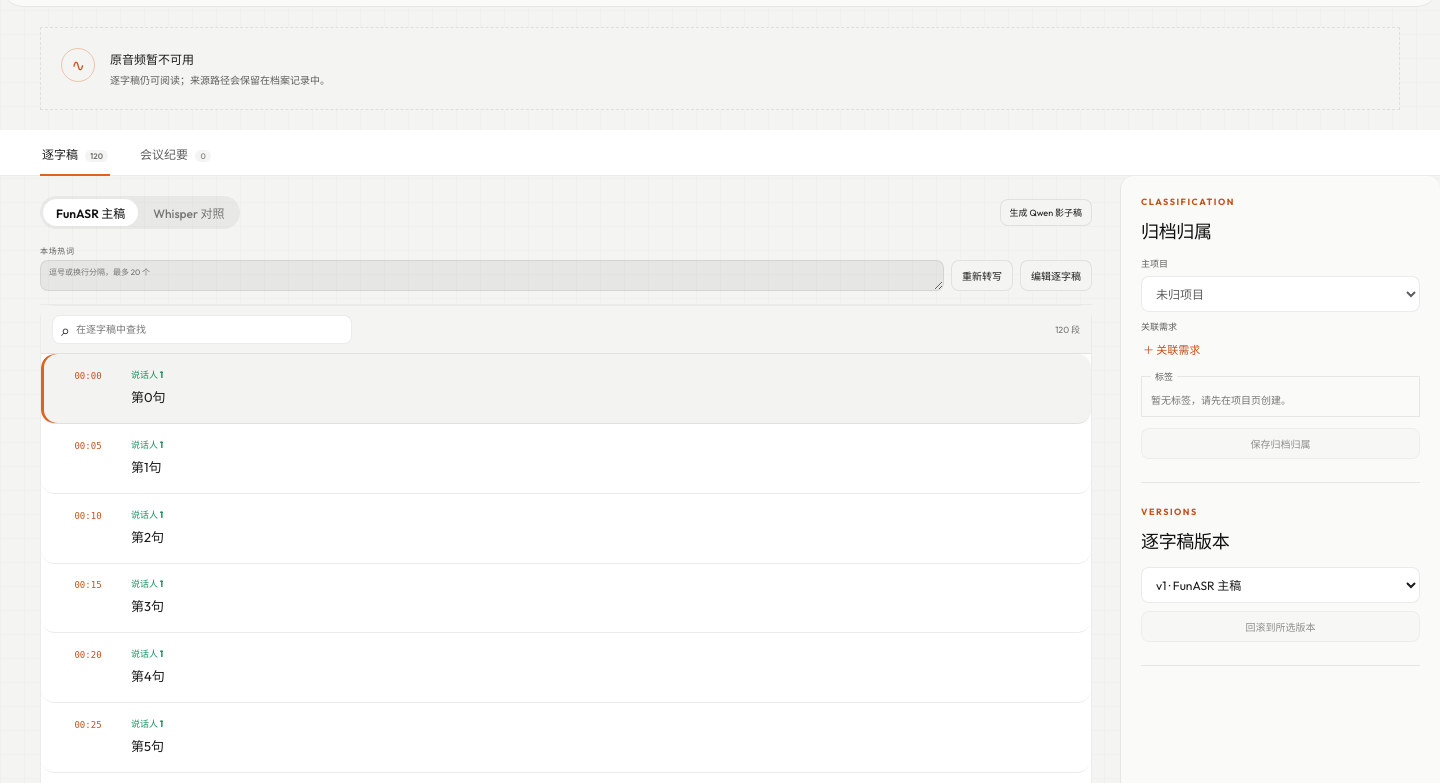
Test: MeetingDetailPage 逐字稿编辑的脏判断 › 改了就是改过：保存草稿可点，外层收到有未保存的修改
(page scrolled)
Click the button "编辑逐字稿".
click(1056, 276)  # box [1020,260,1092,291]
(page scrolled)
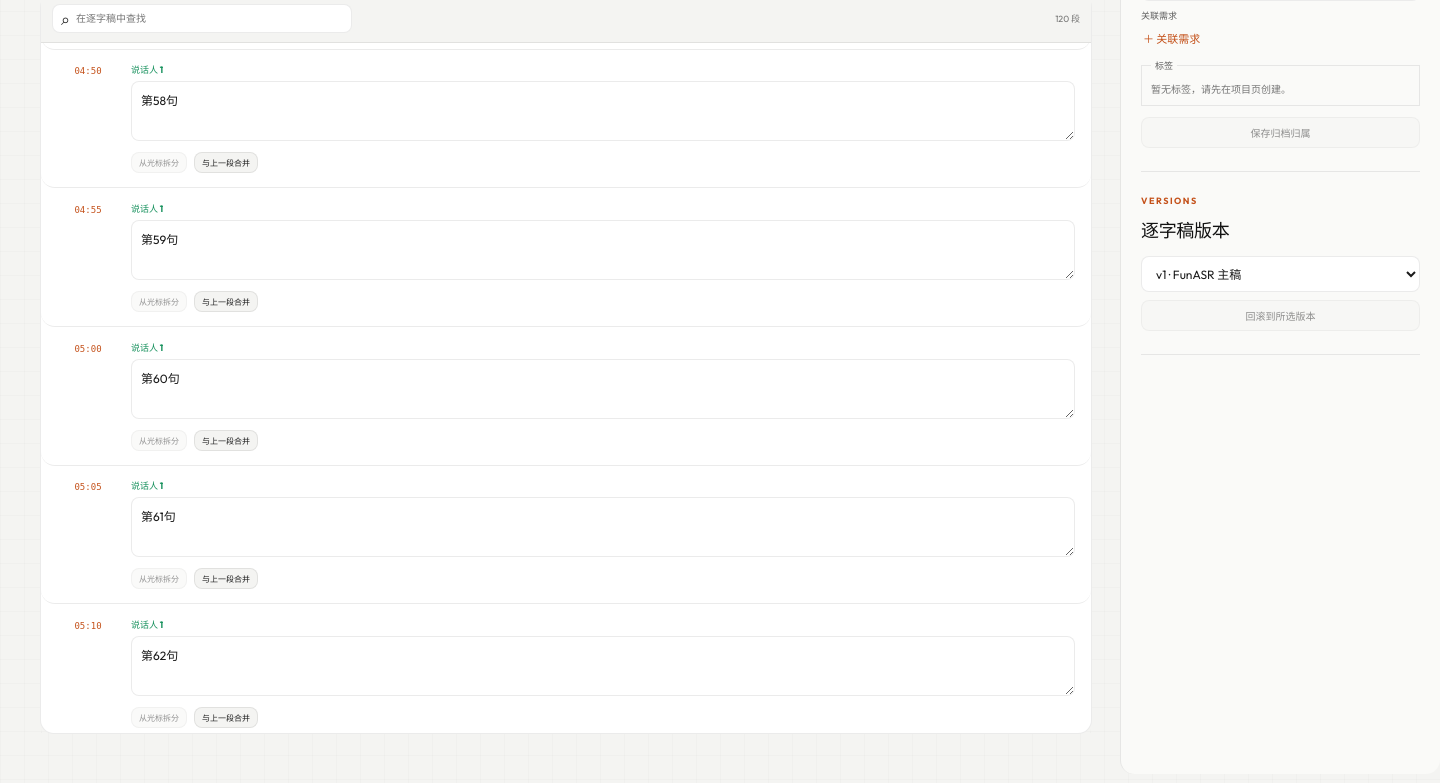
Type "字" into the text box named "05:00 逐字稿".
click(603, 388); type("字")  # box [131,359,1075,418]
(page scrolled)
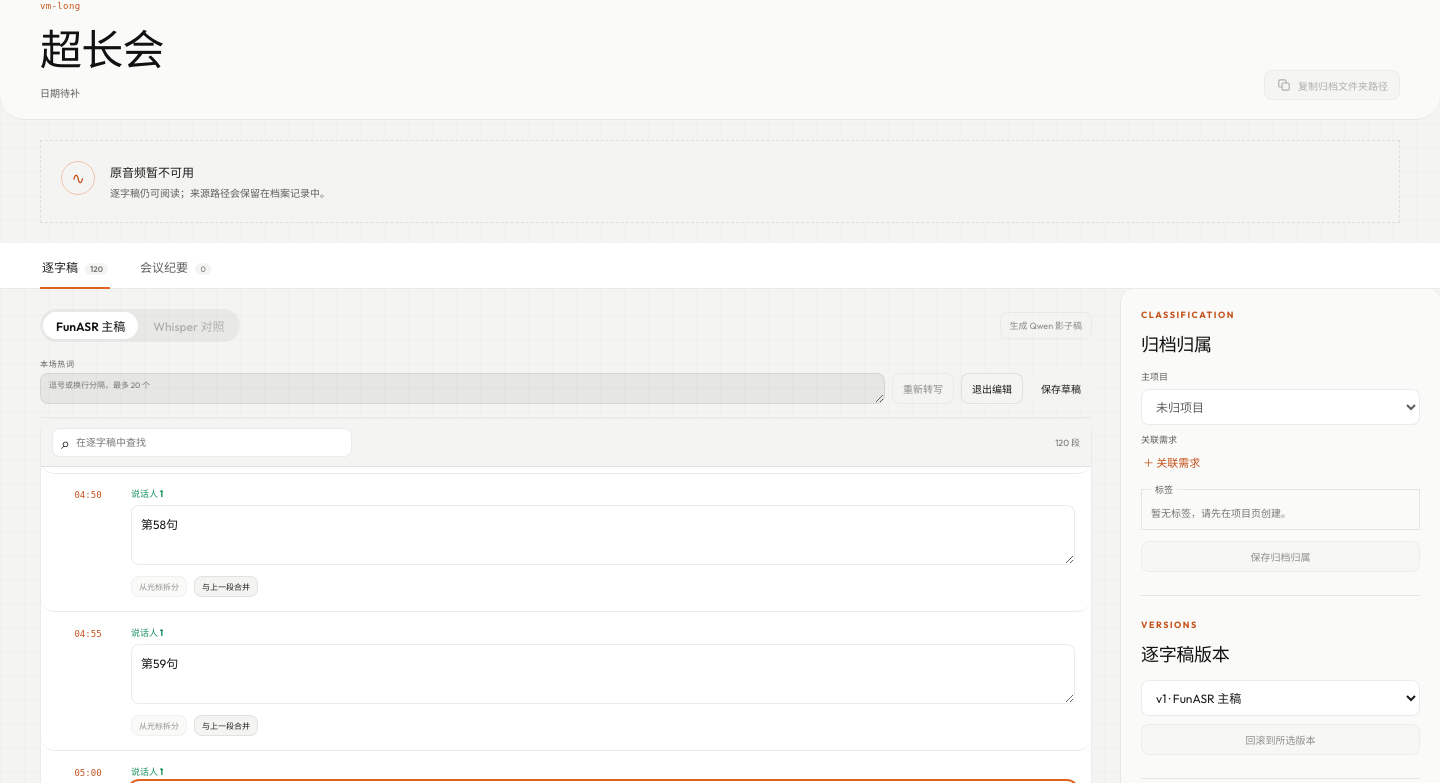
Check: the button "保存草稿" is enabled, box [1030,373,1092,404]
